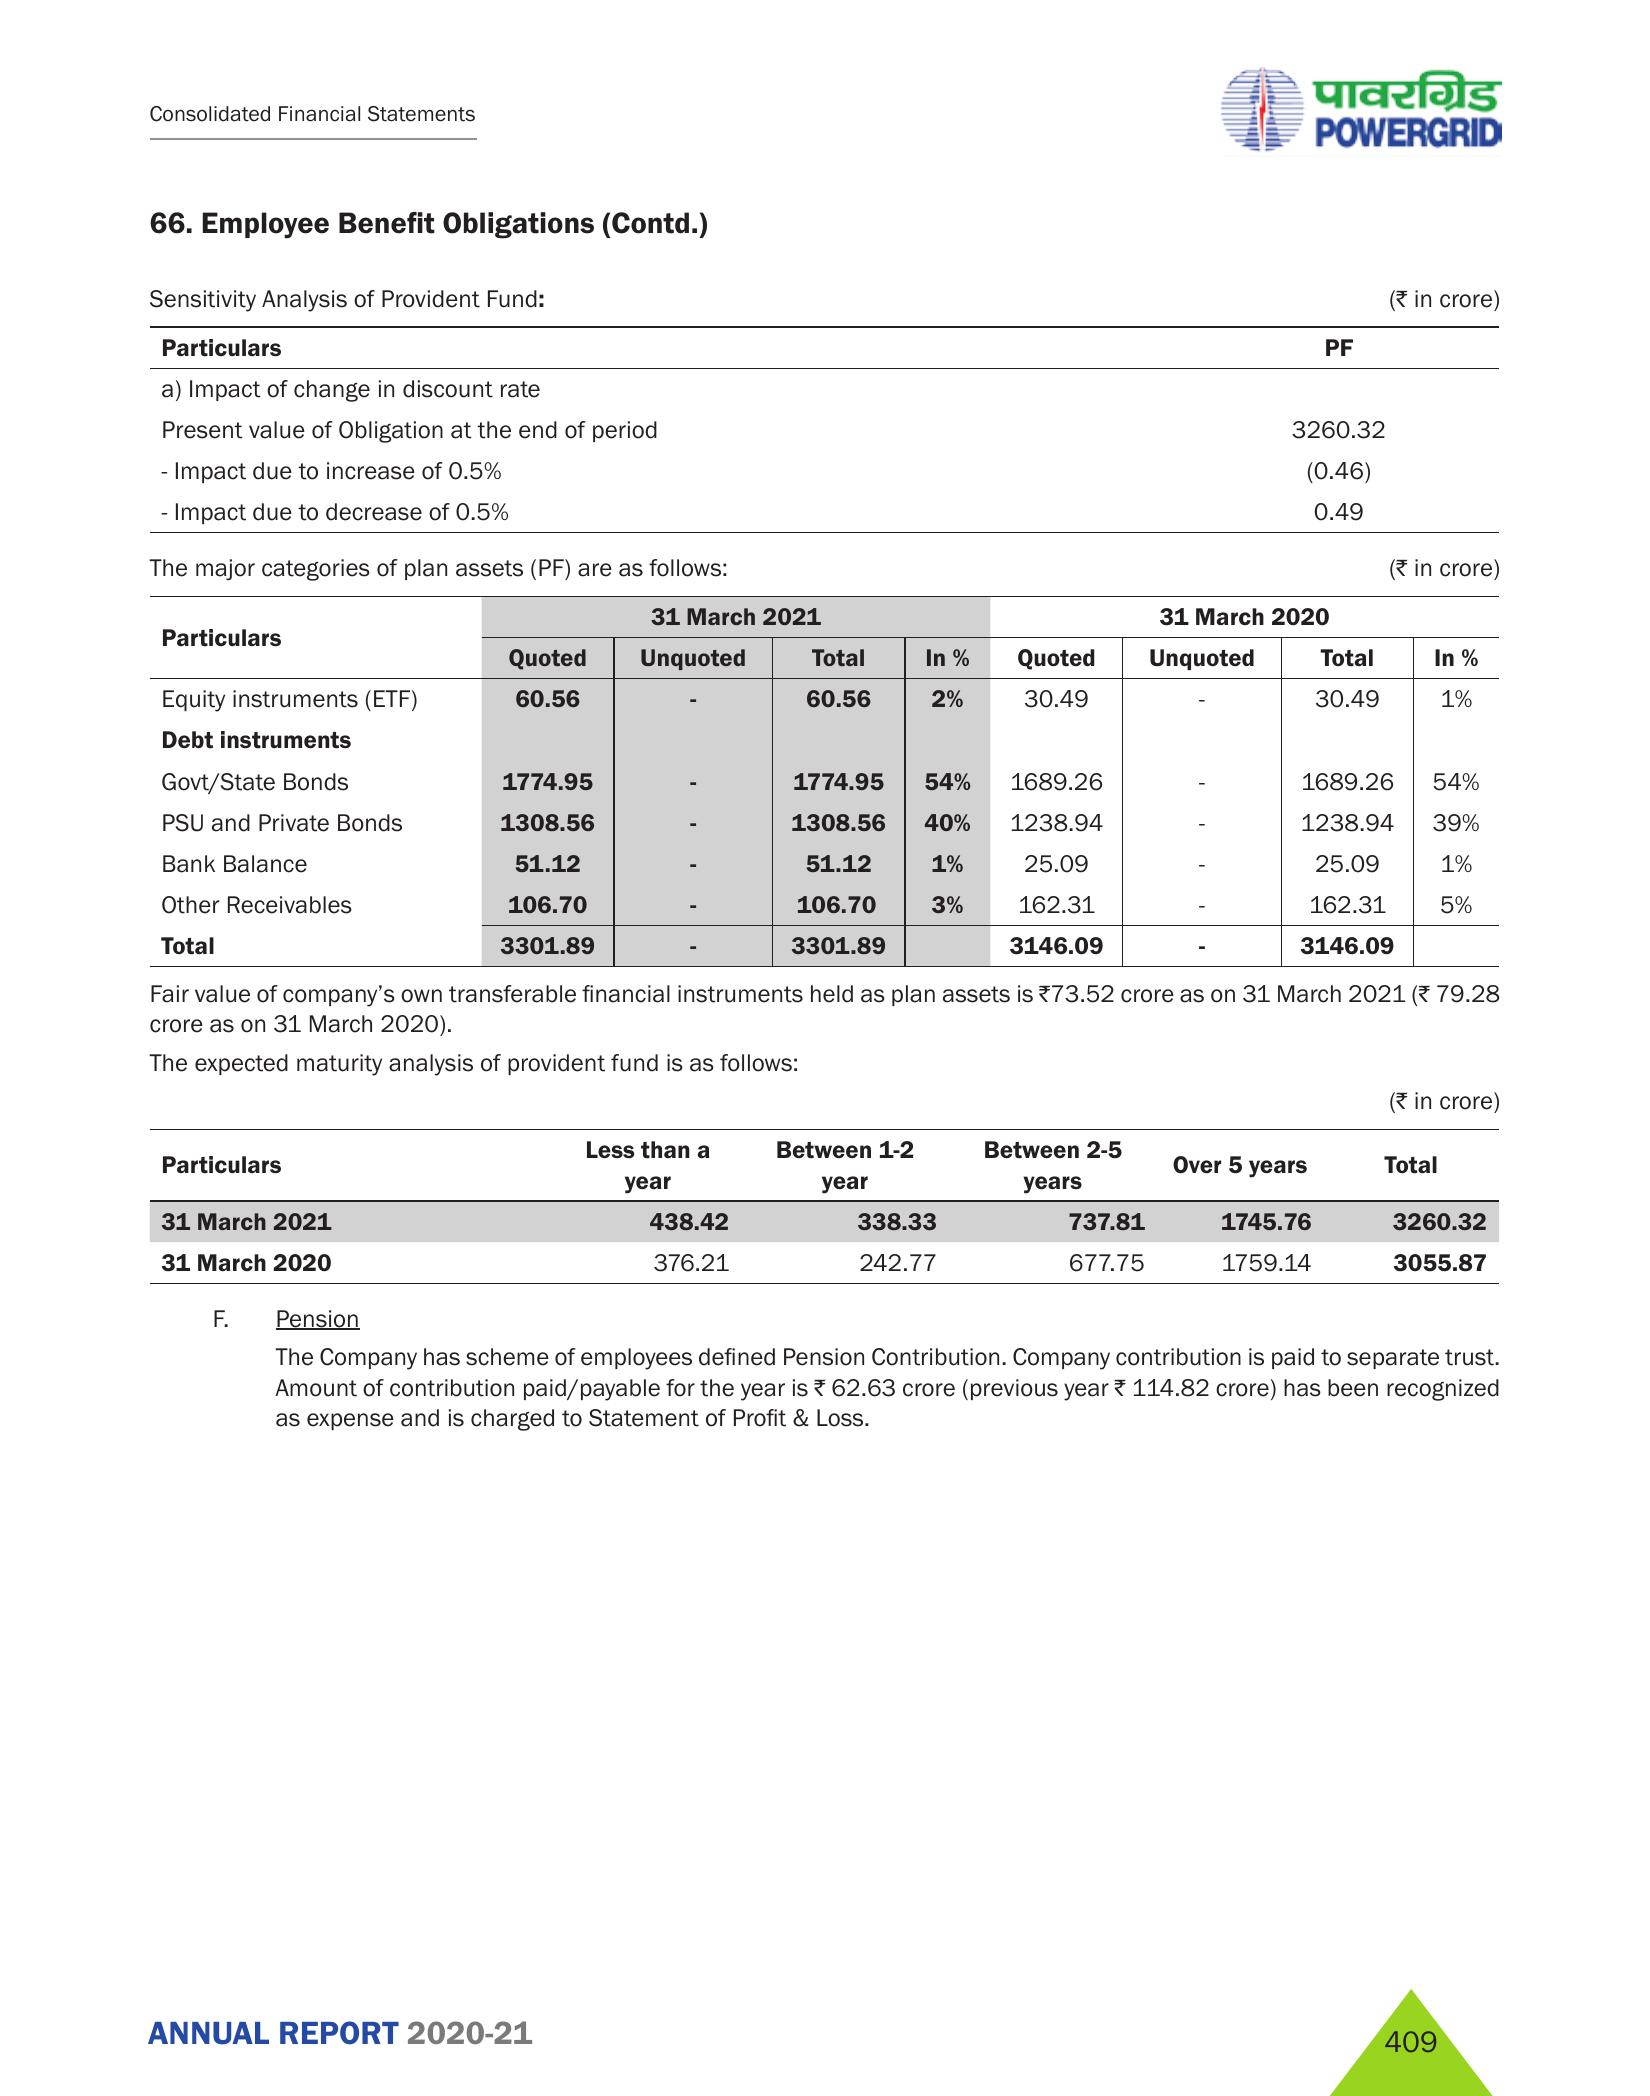Footer: (0, 1956, 1650, 2096)
Header: (0, 0, 1650, 163)
Table: (129, 592, 1495, 968), (146, 271, 1504, 543), (126, 1119, 1511, 1283)
